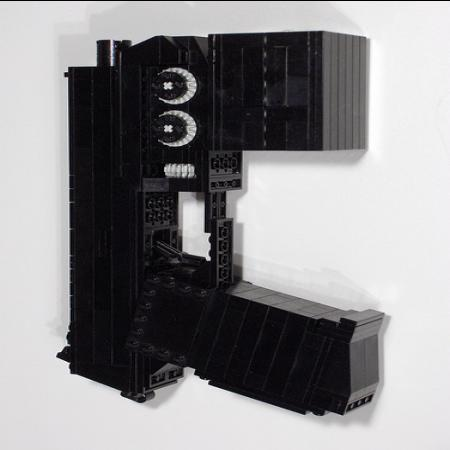Pistol: (55, 28, 385, 426)
